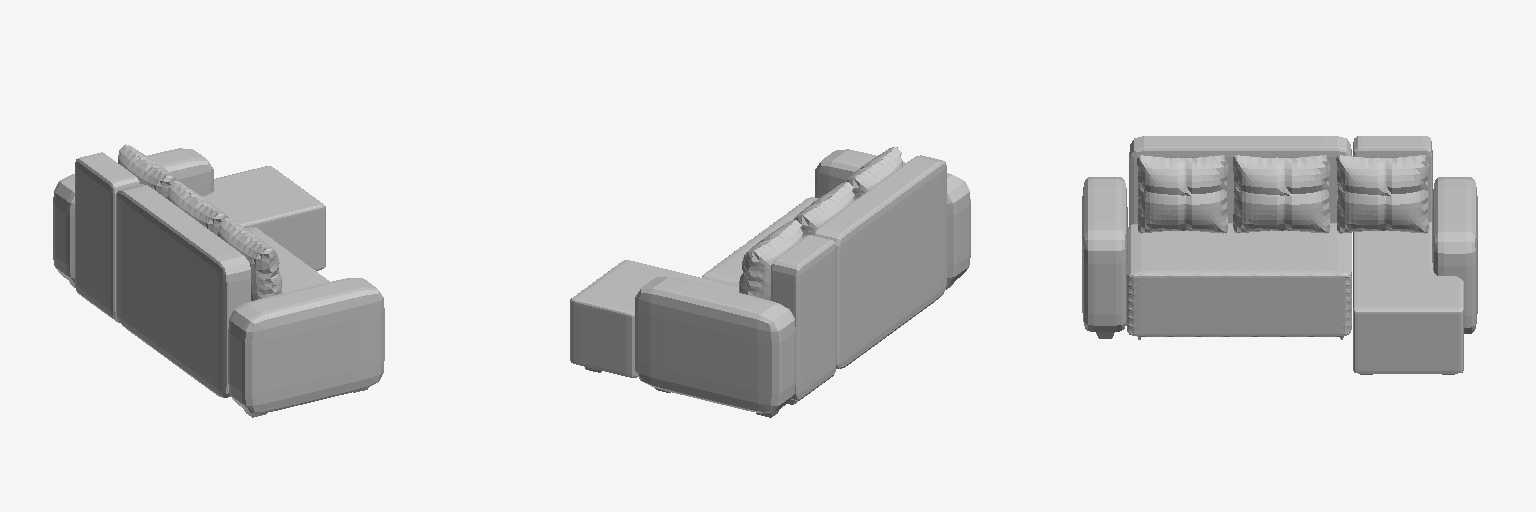
The model's file is Угловой диван-кровать Питсбург с правым углом.obj.
3 views of the same model, side by side, from view 1: azimuth 30°, elevation 25°; view 2: azimuth 150°, elevation 25°; view 3: azimuth 270°, elevation 25° (orthographic).
Parts seen in each view (by area): view 1: Куб.004_Куб.020, Куб.003_Куб.028; view 2: Куб.004_Куб.020, Куб.003_Куб.028; view 3: Куб.004_Куб.020, Куб.003_Куб.028.
Part boxes in pixels (x1,y1,x2,y2): Куб.004_Куб.020: (53,148,384,413); Куб.003_Куб.028: (118,144,281,300); Куб.004_Куб.020: (570,149,970,413); Куб.003_Куб.028: (739,147,902,300); Куб.004_Куб.020: (1082,136,1477,373); Куб.003_Куб.028: (1137,155,1428,233).
Bounding box in the file's own units: 3.31 × 2.13 × 5.27.